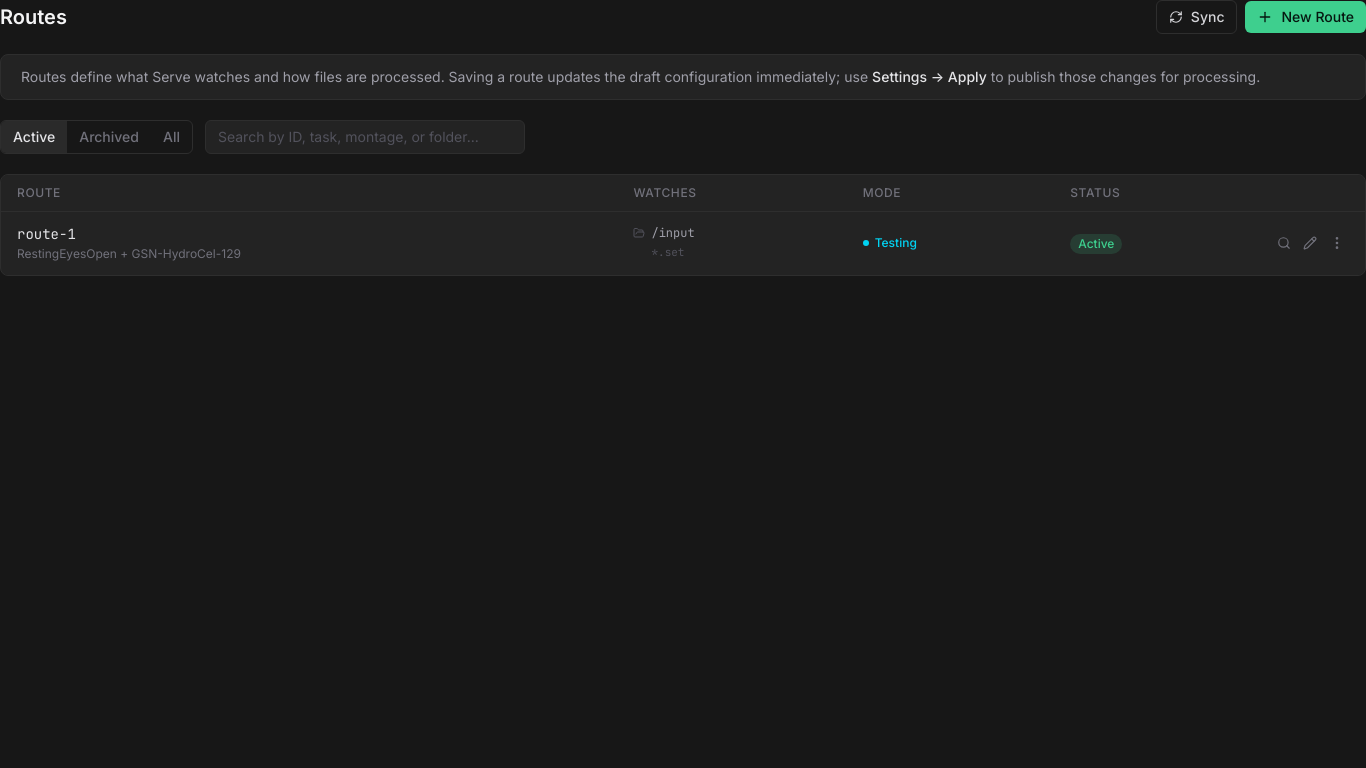
Test: Routes page actions › requires confirmation for delete and explains Apply semantics
Click the button named "Open actions for route route-1" at (1337, 243), box [1325,231,1349,255]
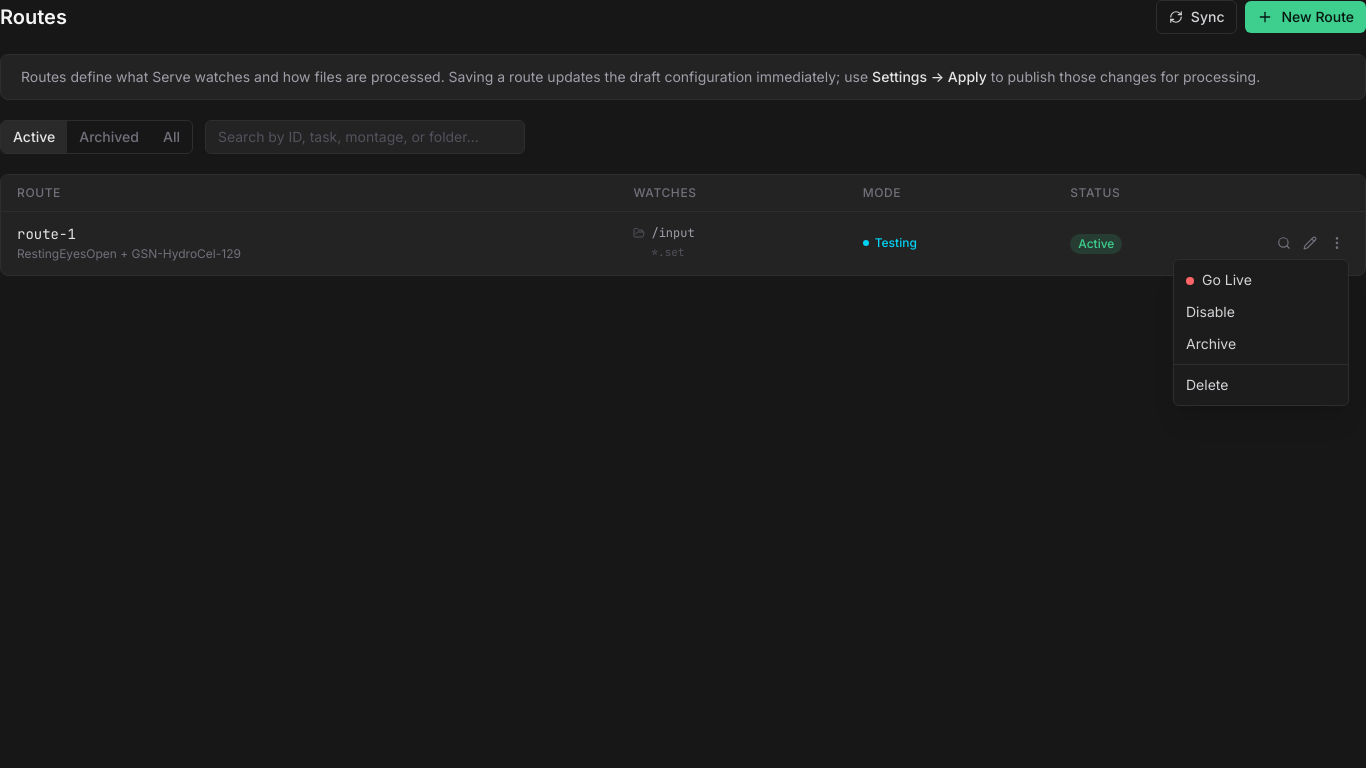
Click the button "Delete" at (1261, 385), box [1174,369,1348,401]
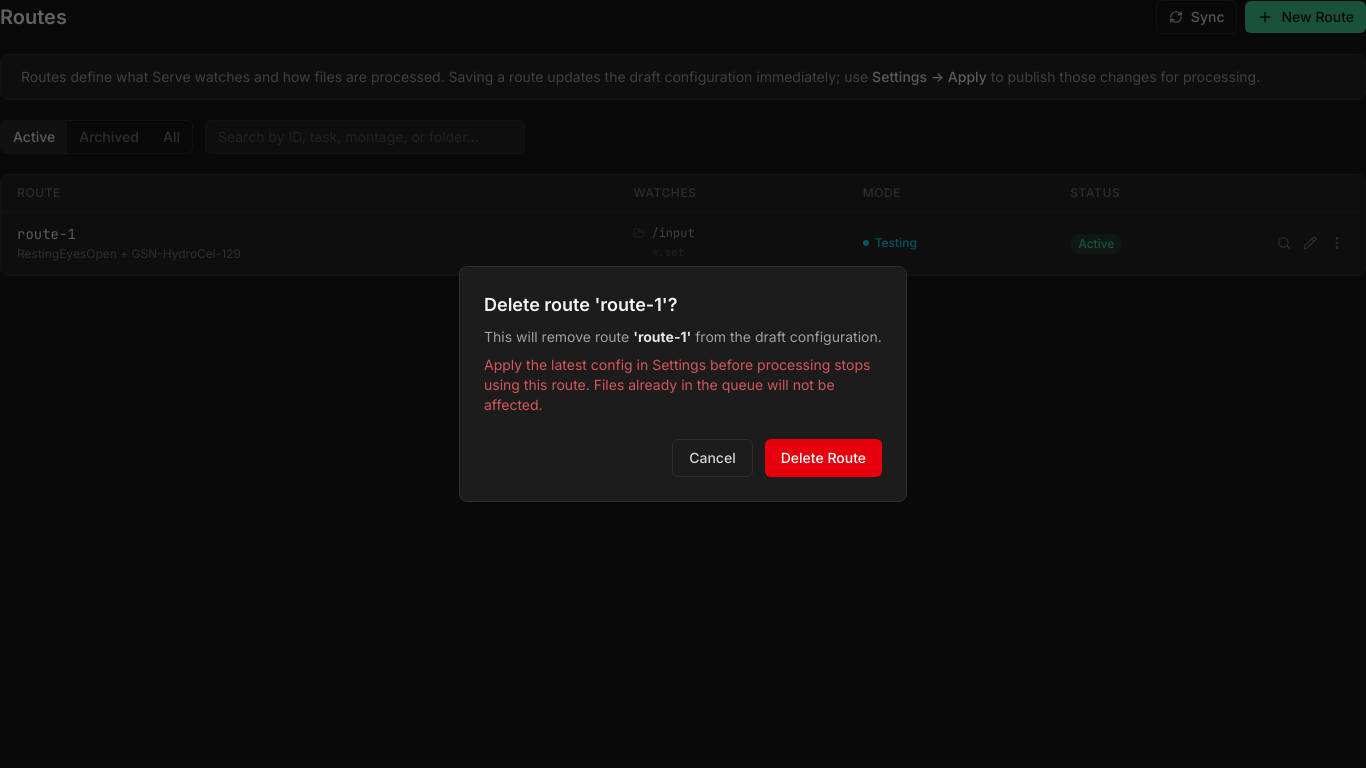
Now the heading "Delete route 'route-1'?" is shown, box [484,294,678,315]
Now the text "Apply the latest config in Settings before processing stops using this route" is shown, box [484,356,870,413]
Click the button "Delete Route" at (823, 458), box [765,439,882,477]
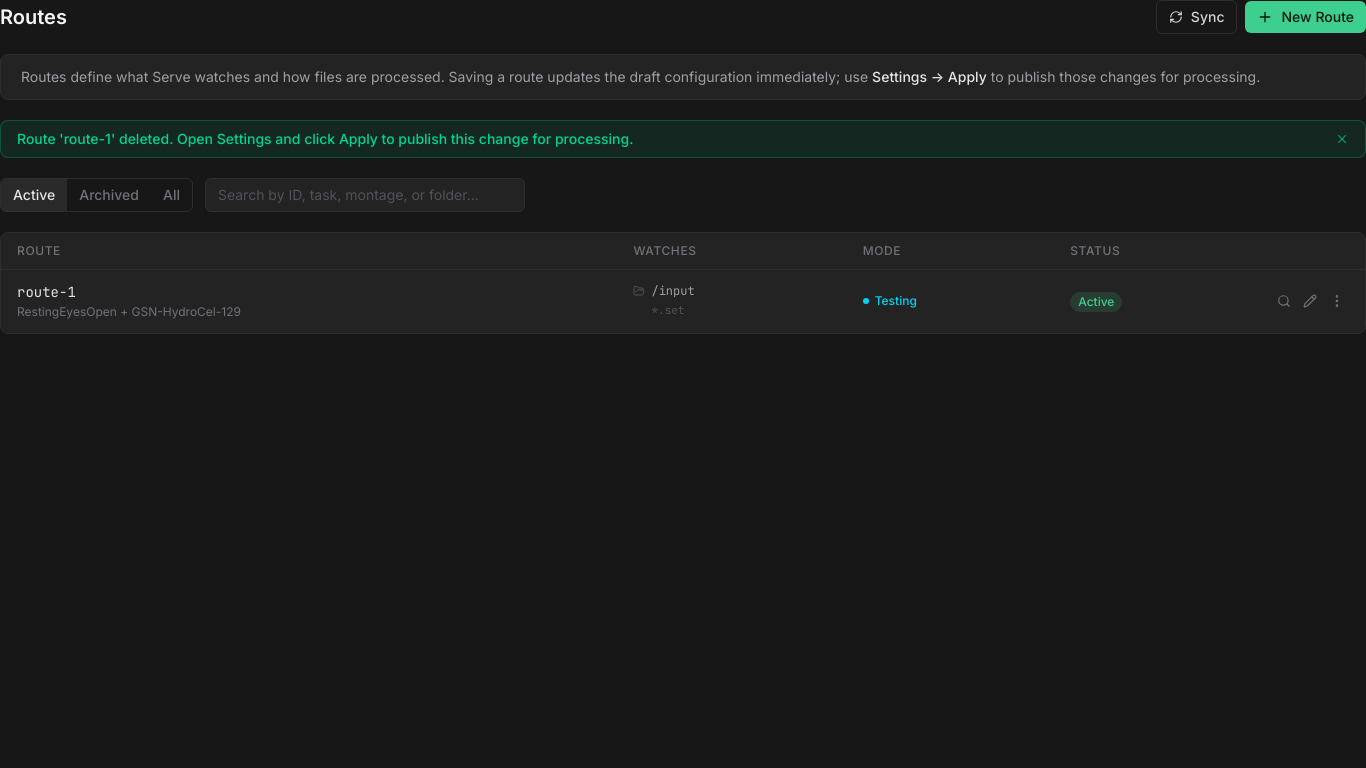
Now the text "Route 'route-1' deleted. Open Settings and click Apply to publish this change for processing." is shown, box [17,130,633,147]
